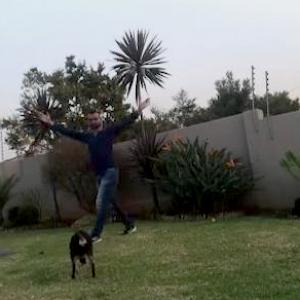takeoff: (47, 76, 143, 248)
